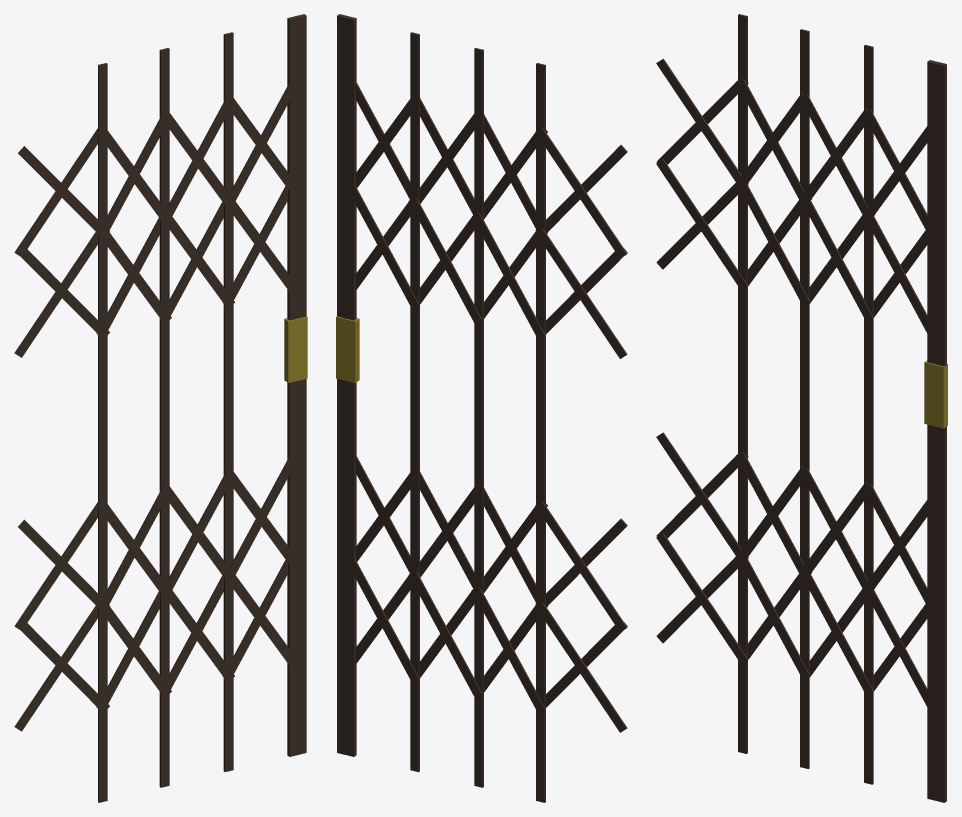
The model's file is elevator_door.fbx.
The picture shows the model from 3 angles, left to right: view 1: azimuth 30°, elevation 25°; view 2: azimuth 150°, elevation 25°; view 3: azimuth 330°, elevation 25°; orthographic projection.
Visible parts, largest first — view 1: Bars, Handle; view 2: Bars, Handle; view 3: Bars, Handle.
Part boxes in pixels (x1,y1,x2,y2): Bars: [14, 14, 306, 802]; Handle: [284, 316, 307, 382]; Bars: [337, 14, 627, 802]; Handle: [336, 316, 359, 382]; Bars: [656, 14, 946, 802]; Handle: [924, 360, 947, 428].
Size of the model in its own units: 6.79 by 16.5 by 0.166.
